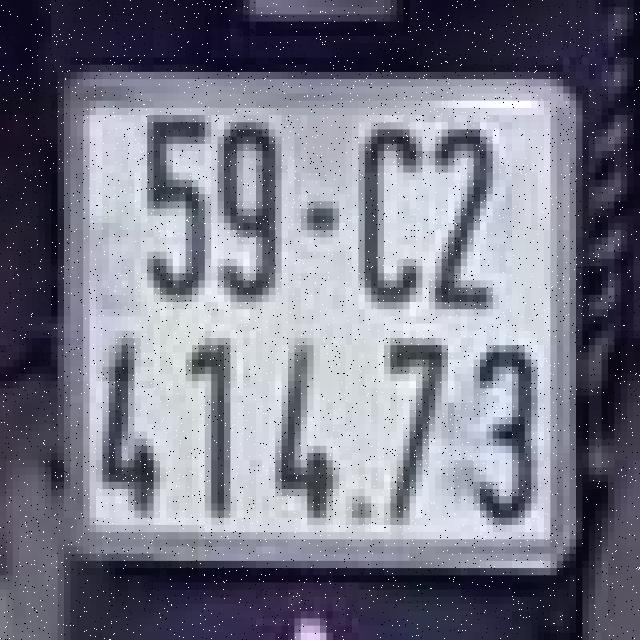1: (179, 316, 256, 525)
2: (422, 104, 506, 327)
3: (470, 320, 548, 550)
4: (253, 327, 342, 529), (86, 309, 164, 525)
5: (131, 83, 221, 313)
7: (362, 316, 458, 554)
9: (211, 101, 288, 309)
C: (349, 101, 419, 316)
